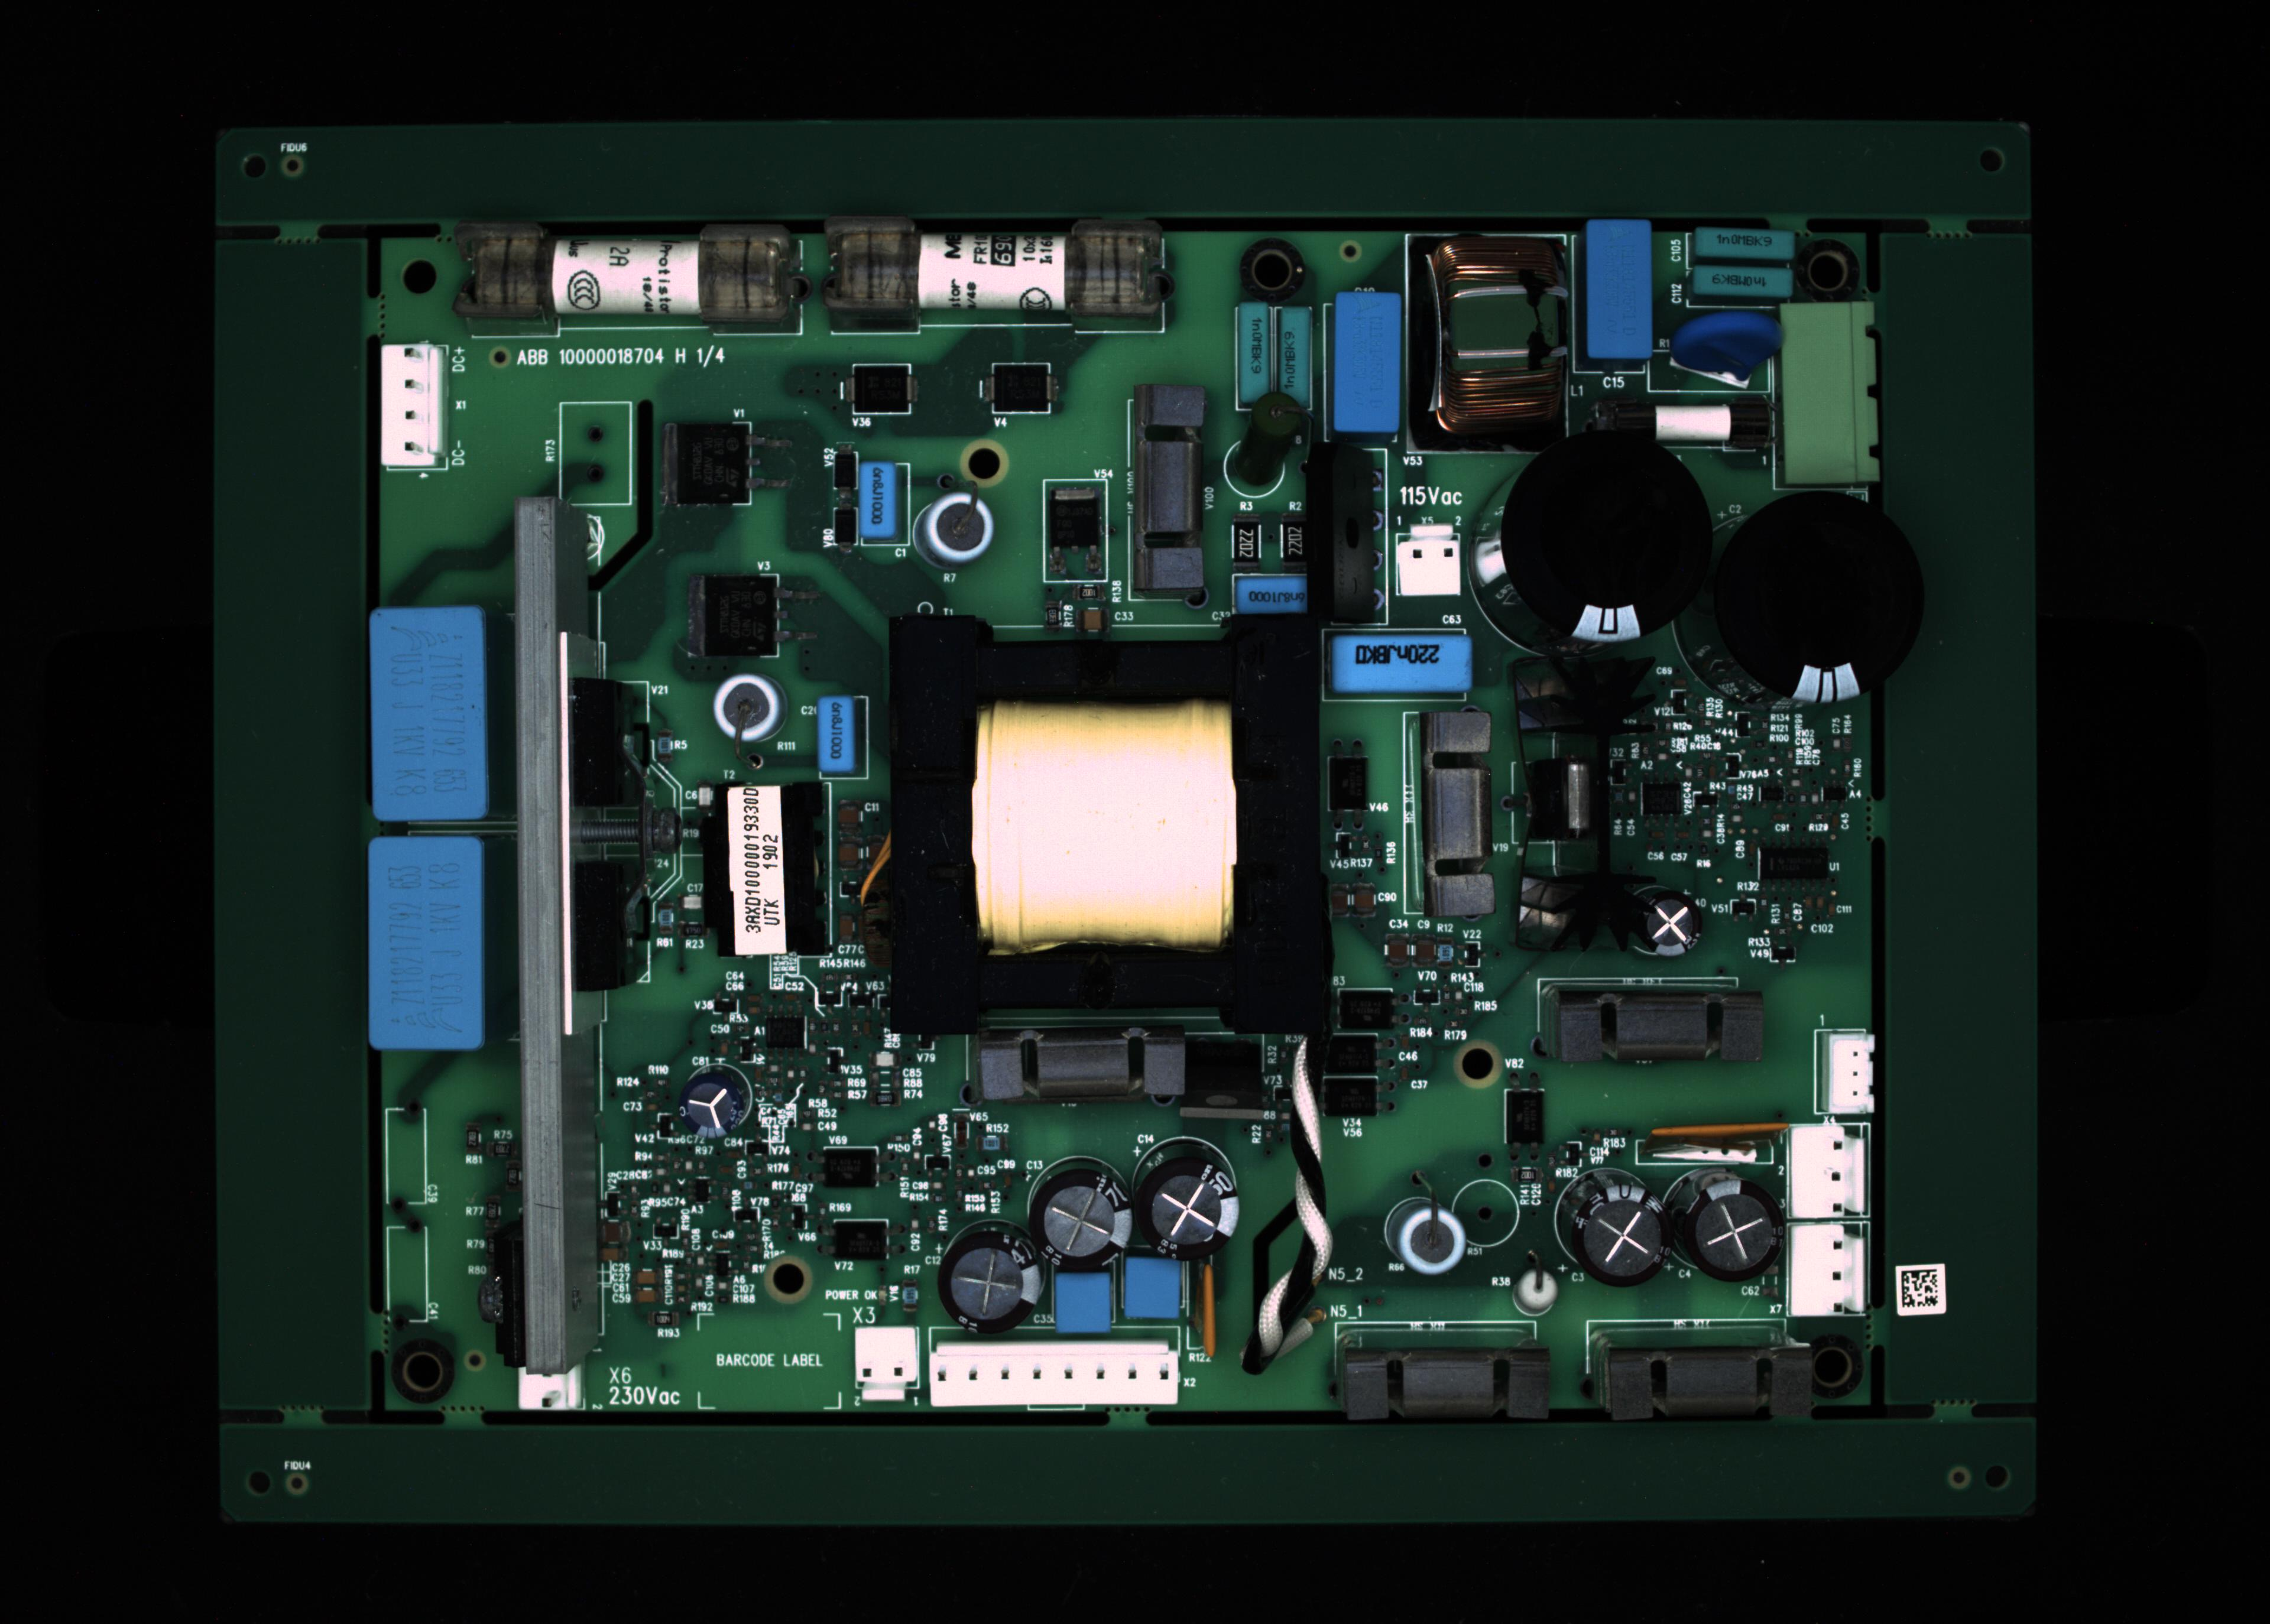10_p: (1648, 346, 1772, 394)
11_q: (1779, 301, 1880, 489)
12_r: (1591, 387, 1776, 455)
13_s: (380, 337, 448, 468)
15_e: (858, 460, 891, 540)
16_k: (927, 487, 1000, 566)
17_u: (1132, 385, 1206, 596)
18_v: (1236, 576, 1308, 610)
19_w: (1333, 638, 1468, 691)
1_a: (455, 216, 807, 336)
20_f: (1393, 527, 1459, 599)
21_g: (1473, 429, 1709, 647)
22_g: (1706, 482, 1929, 705)
23_h: (366, 617, 489, 817)
24_h: (369, 835, 482, 1044)
25_f: (517, 1364, 584, 1411)
26_f: (858, 1325, 921, 1399)
27_x: (928, 1339, 1176, 1411)
28_i: (1131, 1151, 1236, 1258)
29_i: (1027, 1153, 1134, 1274)
2_a: (819, 216, 1175, 330)
30_i: (941, 1223, 1041, 1339)
31_j: (1050, 1267, 1120, 1339)
32_j: (1115, 1251, 1185, 1329)
33_e: (814, 692, 855, 768)
34_k: (1386, 1197, 1465, 1281)
35_k: (1456, 1178, 1542, 1271)
36_i: (1556, 1164, 1672, 1295)
37_i: (1663, 1160, 1786, 1290)
38_l: (1333, 1341, 1560, 1424)
39_l: (1584, 1353, 1823, 1418)
3_b: (1238, 306, 1270, 406)
40_l: (1546, 984, 1771, 1069)
41_y: (1421, 710, 1505, 919)
42_z: (1818, 1028, 1878, 1114)
43_m: (1792, 1121, 1864, 1216)
44_m: (1788, 1225, 1866, 1315)
45_i: (679, 1065, 756, 1142)
46_n: (1338, 982, 1389, 1028)
47_n: (826, 1146, 877, 1193)
48_n: (837, 1220, 891, 1262)
49_aa: (761, 1011, 814, 1056)
4_b: (1277, 308, 1313, 413)
50_n: (1321, 1030, 1377, 1072)
51_n: (1317, 1076, 1377, 1120)
52_ab: (1331, 752, 1366, 805)
53_ac: (1656, 1130, 1790, 1165)
54_ad: (1194, 1253, 1222, 1364)
55_l: (964, 1030, 1182, 1107)
56_ae: (1176, 1025, 1266, 1109)
57_af: (1509, 647, 1635, 951)
58_i: (1630, 884, 1706, 958)
59_o: (990, 362, 1050, 411)
5_c: (1335, 292, 1400, 432)
60_o: (851, 364, 911, 415)
6_6: (1405, 232, 1572, 452)
7_c: (1586, 218, 1651, 357)
8_d: (1693, 228, 1792, 260)
9_d: (1688, 262, 1793, 295)
